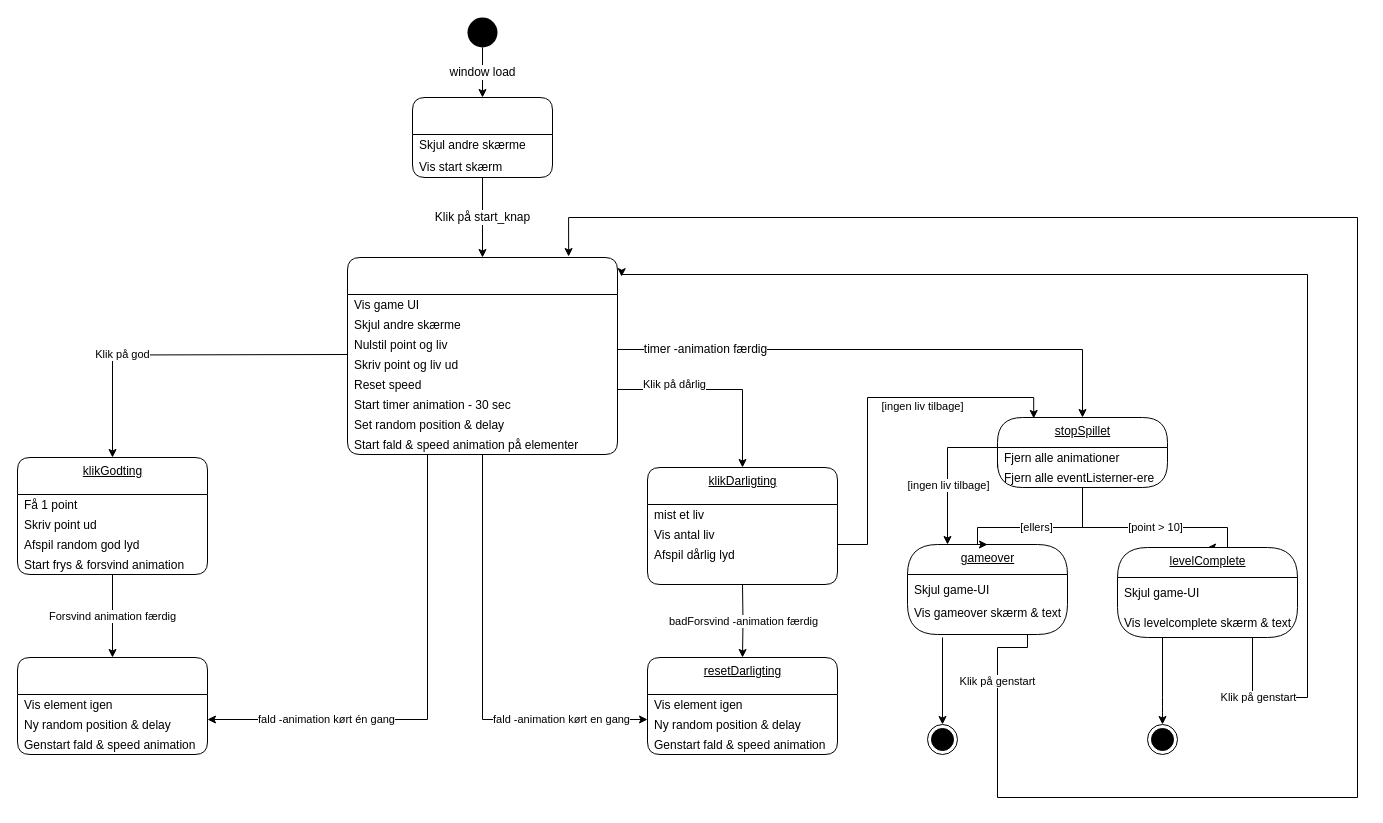
This 1383x823 diagram has some shape labels left out. Each missing label, with the box of its shape:
resetGodting: (16, 656, 208, 754)
sidenVises: (412, 96, 552, 178)
startGame: (346, 256, 618, 454)
